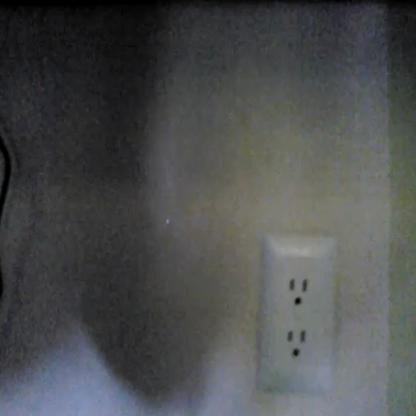OUTLET: (259, 232, 337, 396)
